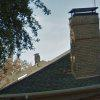Chimney: (62, 0, 100, 77)
